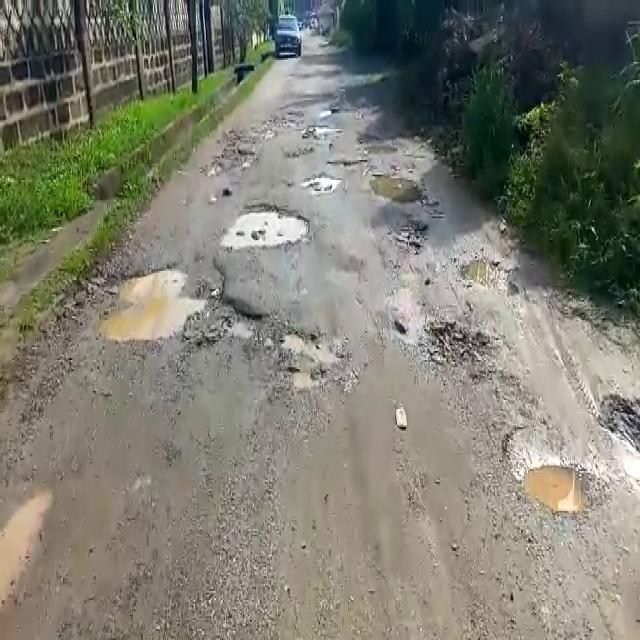Pothole: (96, 261, 216, 345), (0, 490, 54, 604), (420, 318, 498, 385), (216, 203, 313, 252), (516, 458, 598, 514), (281, 328, 344, 394), (598, 385, 639, 470), (459, 254, 520, 292), (368, 172, 428, 206), (304, 171, 346, 189), (326, 154, 374, 168)
